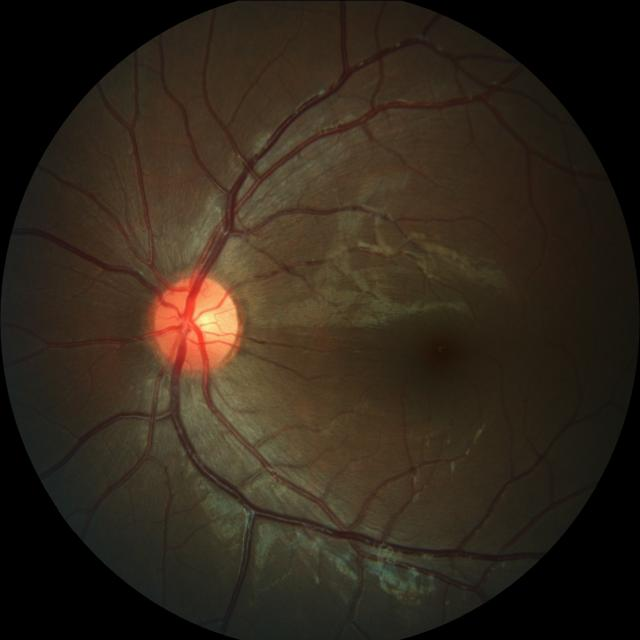OC: (181, 300, 219, 338)
OD: (154, 274, 242, 372)
